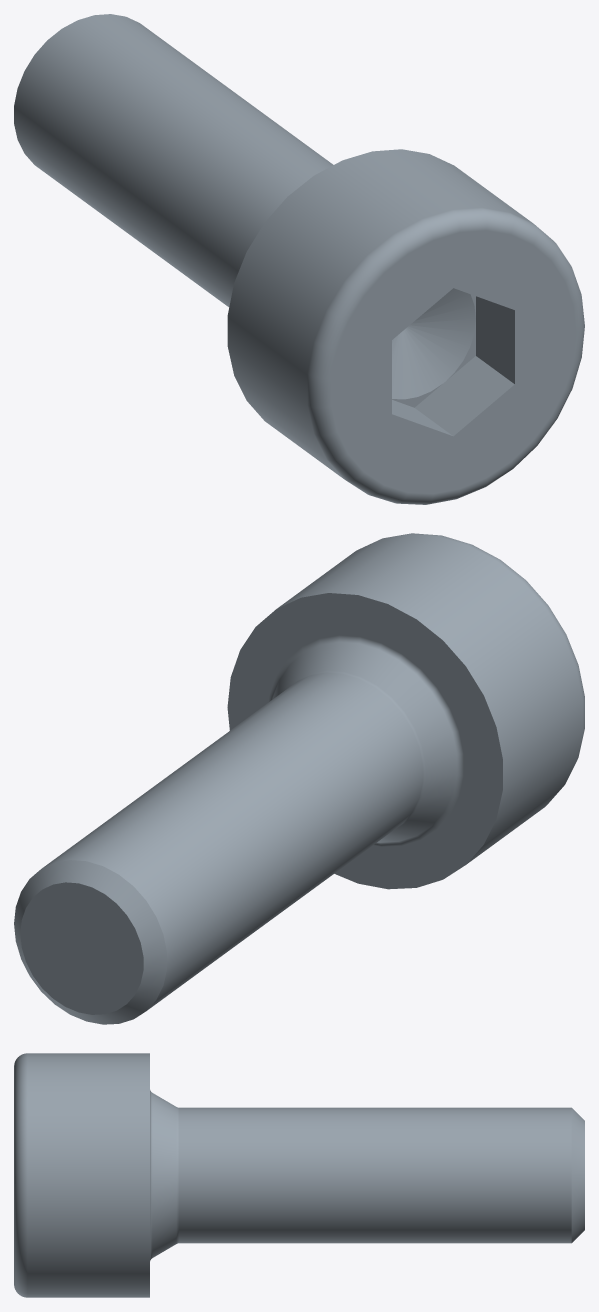
The model's file is Hex_socket_head_cap_screw_M2_5x0_45_x_8.obj.
The picture shows the model from 3 angles, top to bottom: view 1: azimuth 30°, elevation 25°; view 2: azimuth 150°, elevation 25°; view 3: azimuth 270°, elevation 25°; orthographic projection. The views are drawn at different scales.
Visible parts, largest first — view 1: mesh1637, mesh1644, mesh1642, mesh1643, mesh1652, mesh1650, mesh1645, mesh1649; view 2: mesh1637, mesh1642, mesh1641, mesh1635, mesh1639, mesh1636, mesh1640, mesh1643, mesh1638; view 3: mesh1637, mesh1642, mesh1639, mesh1643, mesh1636, mesh1638, mesh1640.
Part boxes in pixels (<box>): mesh1637: <box>14,14,333,307</box>; mesh1644: <box>331,230,575,493</box>; mesh1642: <box>227,149,532,478</box>; mesh1643: <box>307,207,584,504</box>; mesh1652: <box>392,288,475,399</box>; mesh1650: <box>415,356,514,435</box>; mesh1645: <box>476,296,514,383</box>; mesh1649: <box>392,400,452,435</box>; mesh1637: <box>42,672,423,1010</box>; mesh1642: <box>277,534,582,864</box>; mesh1641: <box>227,593,502,889</box>; mesh1635: <box>20,882,143,1014</box>; mesh1639: <box>273,642,456,842</box>; mesh1636: <box>14,860,166,1024</box>; mesh1640: <box>268,635,463,846</box>; mesh1643: <box>360,533,584,803</box>; mesh1638: <box>291,670,425,830</box>; mesh1637: <box>179,1107,571,1243</box>; mesh1642: <box>27,1053,149,1297</box>; mesh1639: <box>152,1093,176,1257</box>; mesh1643: <box>14,1053,27,1297</box>; mesh1636: <box>571,1108,584,1242</box>; mesh1638: <box>176,1107,179,1243</box>; mesh1640: <box>150,1090,152,1260</box>.
Size of the model in its own units: 0.00449 by 0.00449 by 0.0105.
